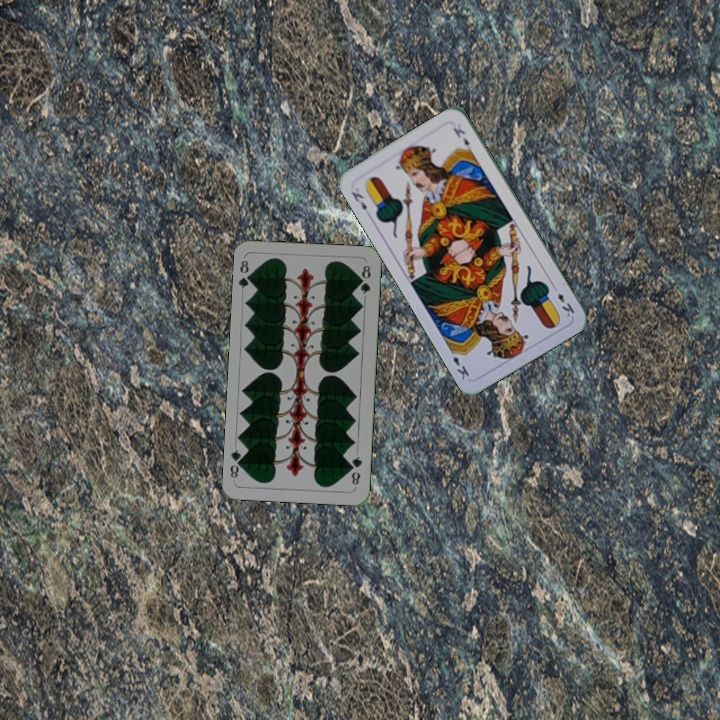EK: (549, 281, 578, 320), (347, 187, 372, 220)
G8: (235, 256, 256, 291), (347, 452, 365, 488)
